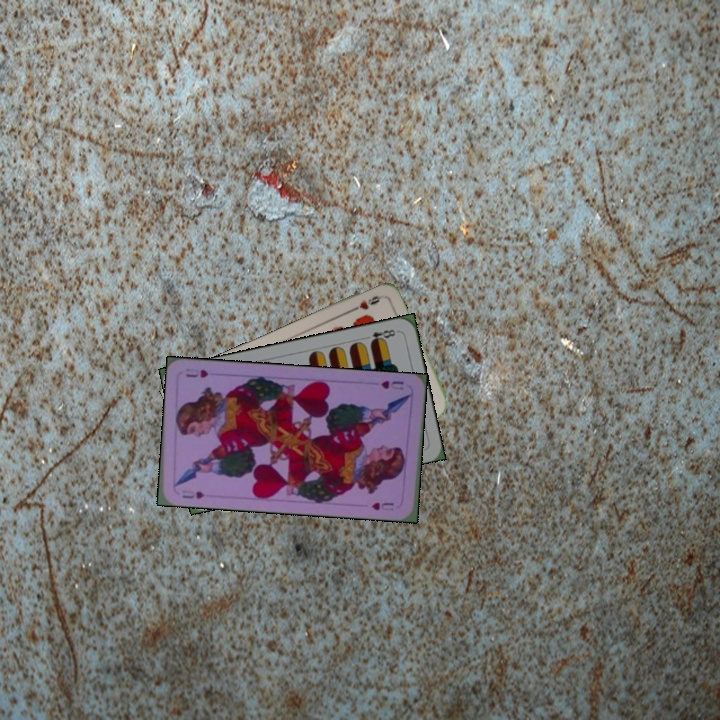E8: (366, 325, 401, 346)
H9: (346, 292, 385, 315)
HU: (377, 377, 406, 392), (178, 487, 207, 501)
